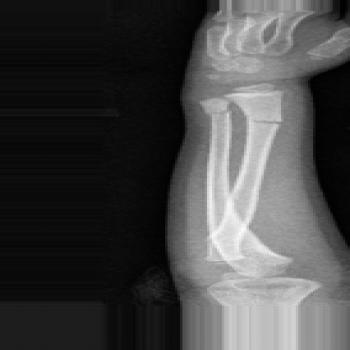Fracture: (245, 116, 294, 128), (201, 109, 239, 116)
